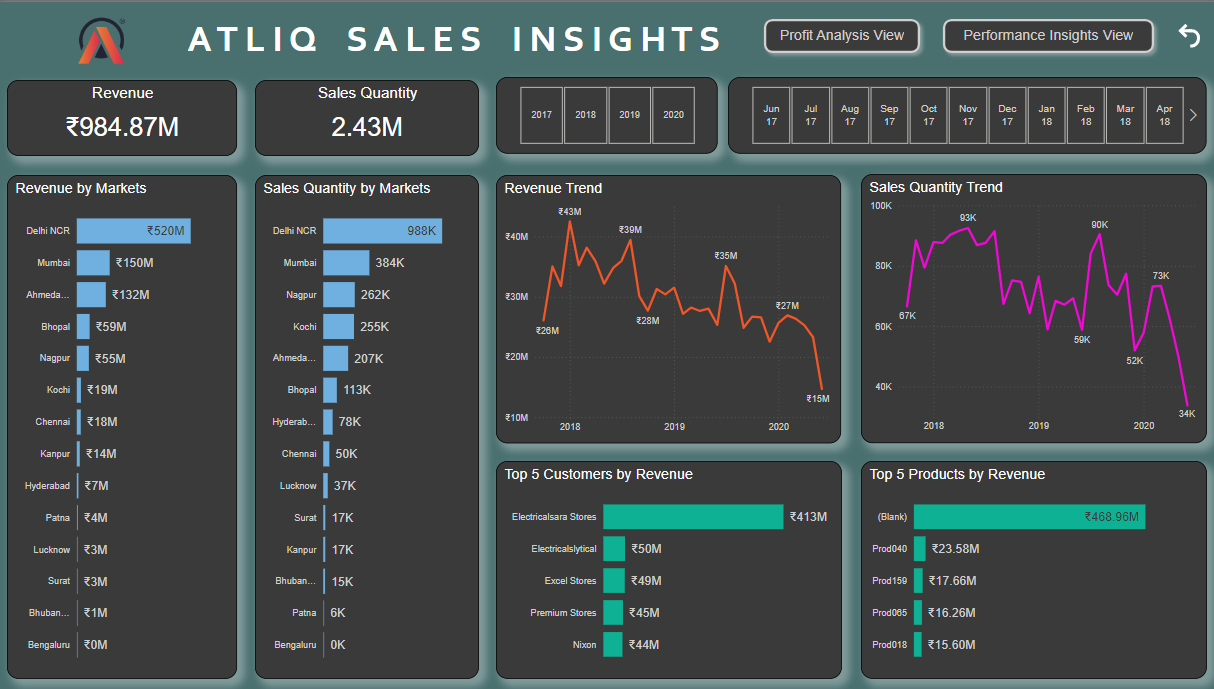

This screenshot's page, from the dashboard's own definition file:
{"tool":"powerbi","page":{"name":"Key Insights","canvas":[1600,900],"ordinal":0},"visuals":[{"type":"barChart","title":"Revenue by Markets","fields":{"Y":["BaseMeasures (2).Revenue"],"Category":["sales markets.markets_name"]},"box":[15.6,225.6,299.9,657.2],"z":0},{"type":"image","box":[102.7,13.3,73.3,73.3],"z":1000},{"type":"barChart","title":"Sales Quantity by Markets","fields":{"Y":["BaseMeasures (2).Sales Qty"],"Category":["sales markets.markets_name"]},"box":[339,225.6,292.1,657.2],"z":2000},{"type":"actionButton","box":[993.6,13,221.7,62.6],"z":3000},{"type":"barChart","title":"Top 5 Customers by Revenue","fields":{"Y":["BaseMeasures (2).Revenue"],"Category":["sales customers.custmer_name"]},"box":[653.3,598.7,450.7,284],"z":4000},{"type":"actionButton","box":[1227.1,13,293.4,62.6],"z":5000},{"type":"barChart","title":"Top 5 Products by Revenue","fields":{"Category":["sales products.product_code"],"Y":["Sum(Sales transactions.norm_sales_amount)"]},"box":[1129.3,598.7,450.7,284],"z":6000},{"type":"textbox","box":[102.7,13.3,1000,73.3],"z":7000},{"type":"slicer","fields":{"Values":["sales date.year"]},"box":[653.3,97.3,289.3,100],"z":8000},{"type":"lineChart","title":"Sales Quantity Trend","fields":{"Y":["BaseMeasures (2).Sales Qty"],"Category":["sales date.cy_date"]},"box":[1129.3,224,450.7,350.7],"z":9000},{"type":"slicer","fields":{"Values":["sales date.cy_date"]},"box":[956,97.3,624,100],"z":10000},{"type":"lineChart","title":"Revenue Trend","fields":{"Y":["BaseMeasures (2).Revenue"],"Category":["sales date.cy_date"]},"box":[653.3,225.3,450,350],"z":11000},{"type":"card","title":"Revenue","fields":{"Values":["BaseMeasures (2).Revenue"]},"box":[15.6,101.7,299.9,99.1],"z":12000},{"type":"card","title":"Sales Quantity","fields":{"Values":["BaseMeasures (2).Sales Qty"]},"box":[339,101.7,292.1,99.1],"z":13000},{"type":"actionButton","box":[1537.4,23.5,43,40.4],"z":14000}]}

Visuals, with their boxes in screenshot pixels (x1, y1, x2, y2), scaled from the page's 1600x900 canvas onto the 1214x689 screenshot:
"Revenue by Markets" barChart: [left=12, top=173, right=239, bottom=676]
image: [left=78, top=10, right=134, bottom=66]
"Sales Quantity by Markets" barChart: [left=257, top=173, right=479, bottom=676]
actionButton: [left=754, top=10, right=922, bottom=58]
"Top 5 Customers by Revenue" barChart: [left=496, top=458, right=838, bottom=676]
actionButton: [left=931, top=10, right=1154, bottom=58]
"Top 5 Products by Revenue" barChart: [left=857, top=458, right=1199, bottom=676]
textbox: [left=78, top=10, right=837, bottom=66]
slicer - sales date.year: [left=496, top=74, right=715, bottom=151]
"Sales Quantity Trend" lineChart: [left=857, top=171, right=1199, bottom=440]
slicer - sales date.cy_date: [left=725, top=74, right=1199, bottom=151]
"Revenue Trend" lineChart: [left=496, top=172, right=837, bottom=440]
"Revenue" card: [left=12, top=78, right=239, bottom=154]
"Sales Quantity" card: [left=257, top=78, right=479, bottom=154]
actionButton: [left=1167, top=18, right=1199, bottom=49]
